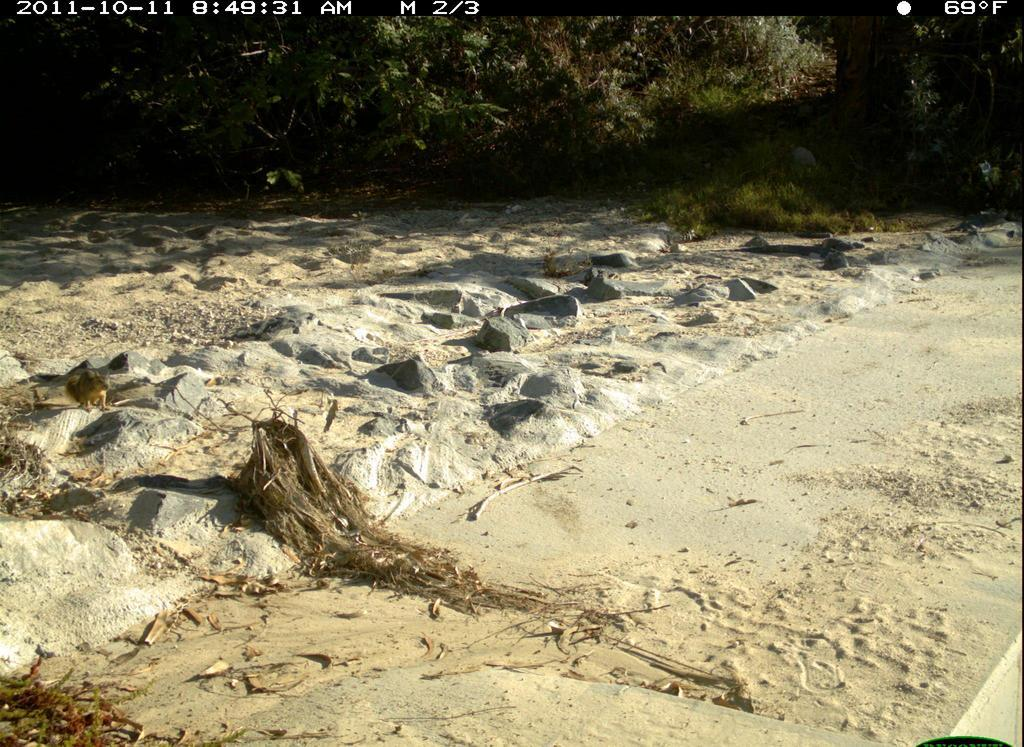squirrel: (56, 361, 120, 415)
